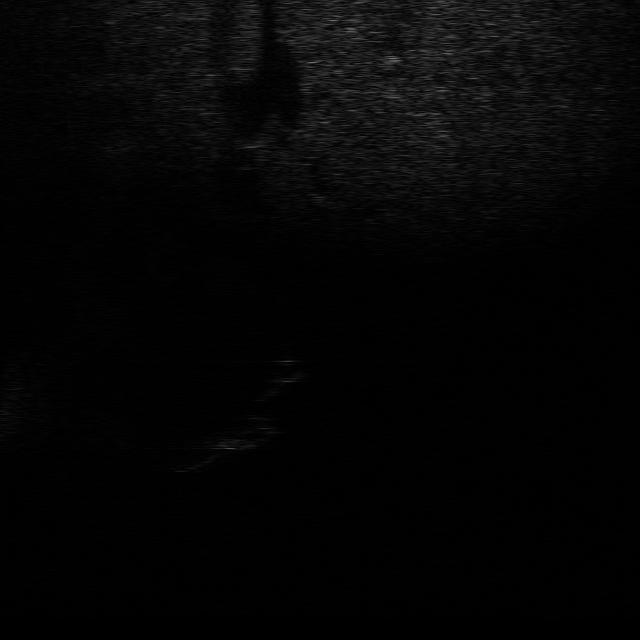ball: (259, 352, 310, 386)
square cage: (168, 432, 250, 472)
tyre: (206, 414, 285, 454)
